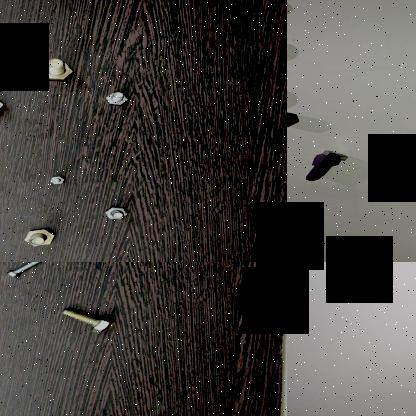Bolts: (300, 148, 352, 188), (61, 304, 121, 338), (16, 228, 62, 252), (33, 60, 82, 82), (3, 262, 55, 281), (100, 203, 134, 227), (99, 90, 135, 106), (0, 91, 15, 121), (42, 172, 64, 185)
NUTS: (287, 108, 305, 132)
